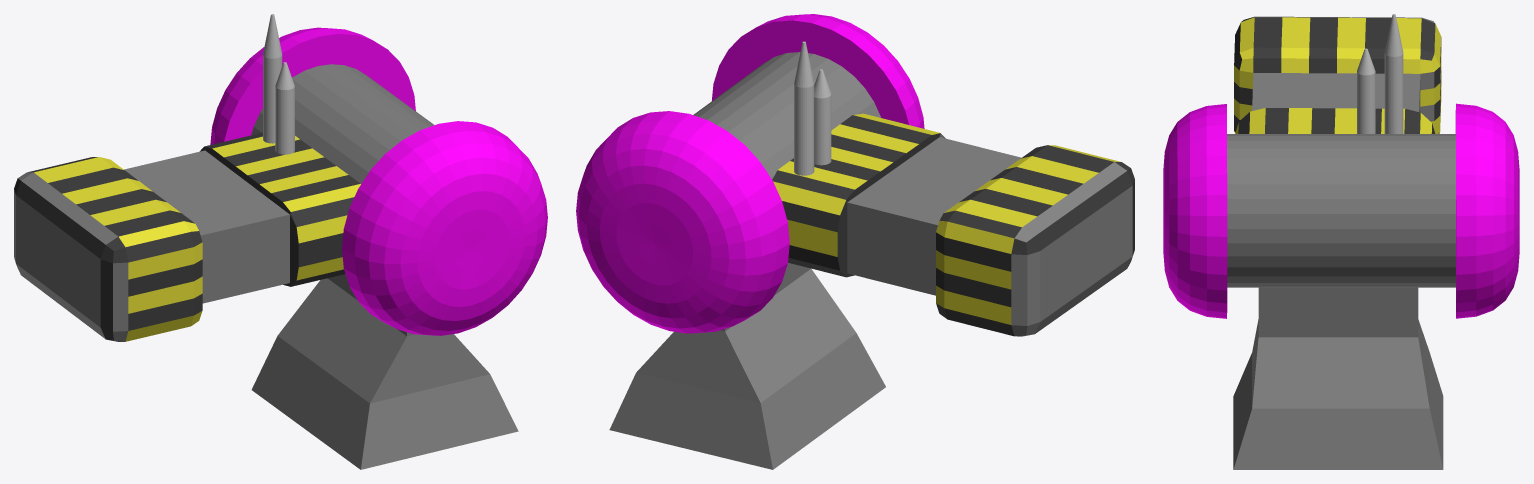
Rendered from SilenceAddOn1.fbx.
3 renders of one model, left to right at view 1: azimuth 30°, elevation 25°; view 2: azimuth 150°, elevation 25°; view 3: azimuth 270°, elevation 25°, orthographic. The views are drawn at different scales.
Parts seen in each view (by area): view 1: Cylinder.064; view 2: Cylinder.064; view 3: Cylinder.064.
Boxes of the visible parts, box(x1,y1,x2,y2) form: Cylinder.064: box(14, 14, 547, 469); Cylinder.064: box(576, 14, 1134, 469); Cylinder.064: box(1163, 14, 1519, 469).
Size of the model in its own units: 142 by 128 by 109.
